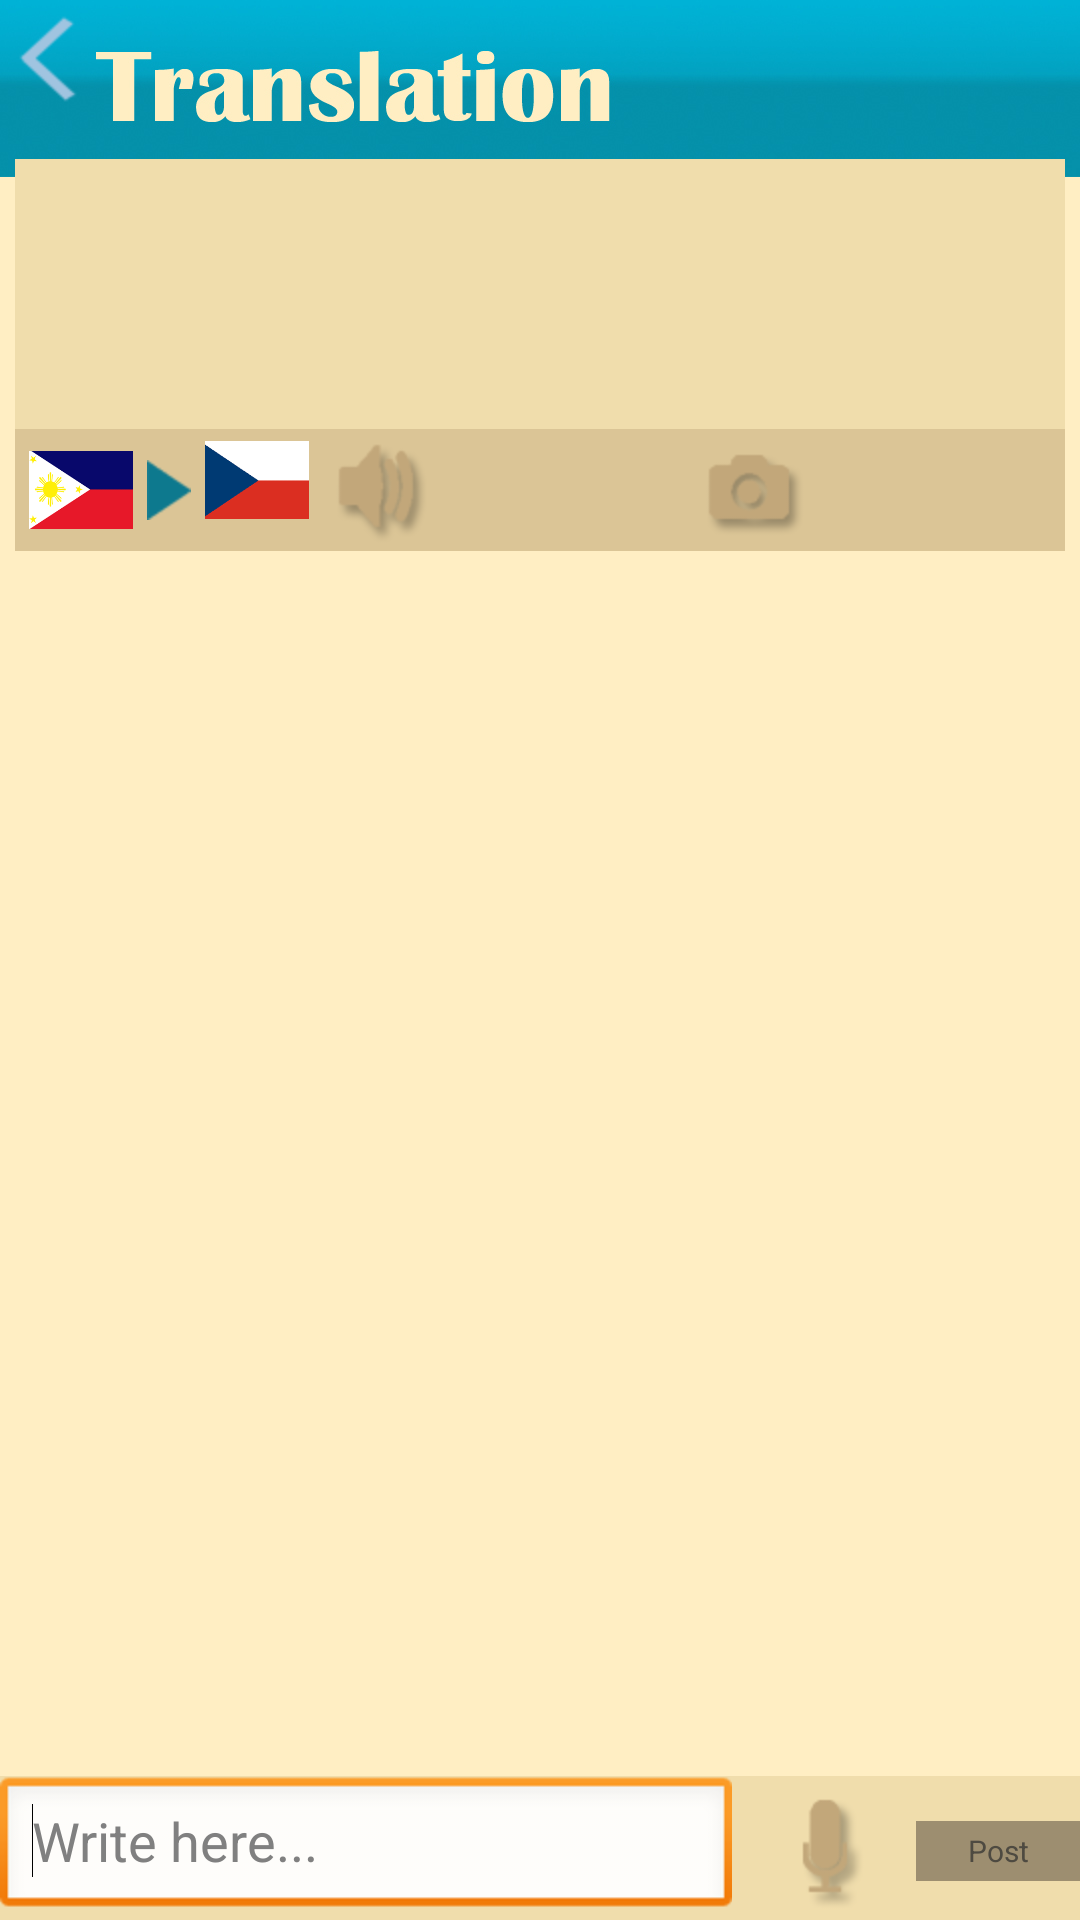

Icons on this 1080px×1920px Android screen, each with its box as (x1, y1, x2, y2):
back: (0, 0, 144, 121)
cam: (710, 456, 796, 528)
lang: (205, 441, 309, 519), (29, 451, 133, 529)
microphone: (802, 1799, 863, 1908)
sound: (340, 446, 420, 534)
trokut: (147, 460, 191, 520)
